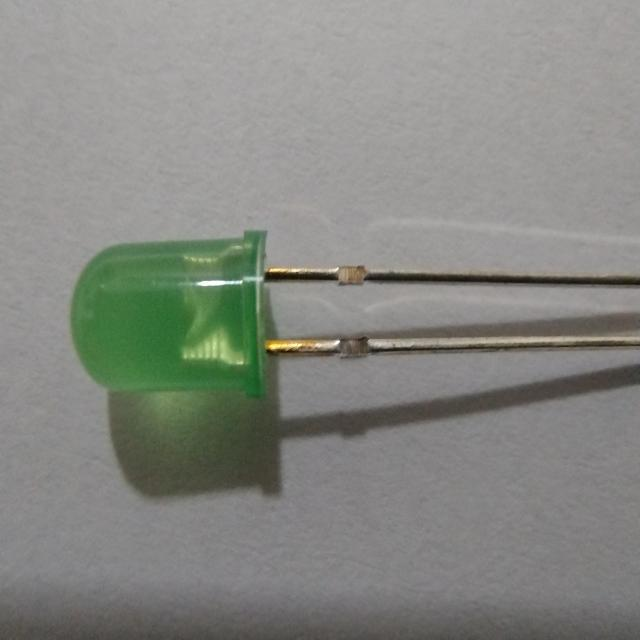green_led: (56, 214, 288, 410)
